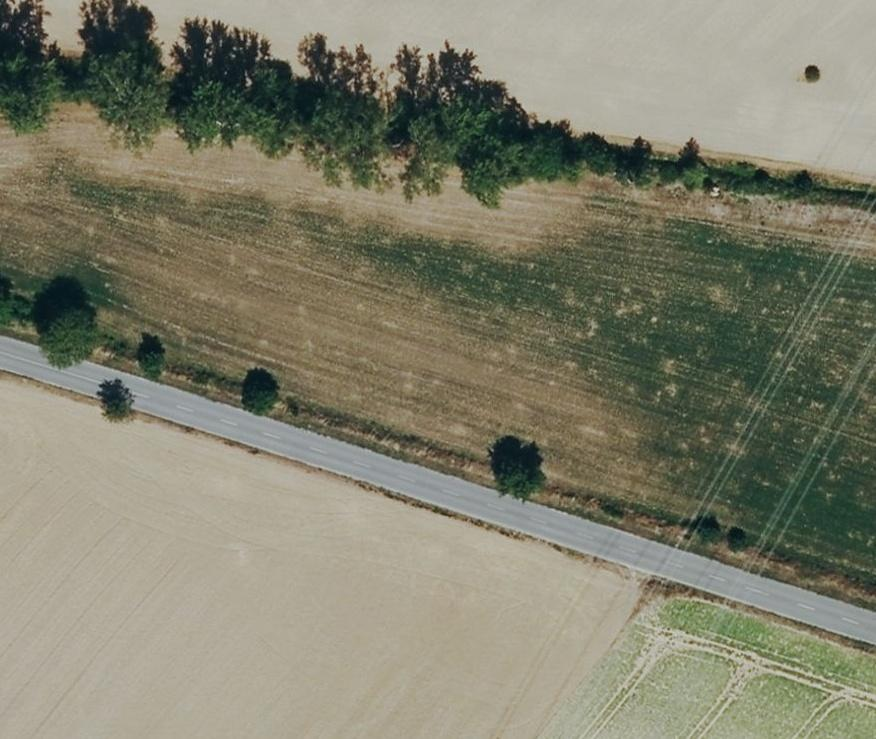field: (0, 1, 876, 608), (0, 376, 876, 737)
forest: (79, 55, 582, 205), (0, 55, 62, 133)
